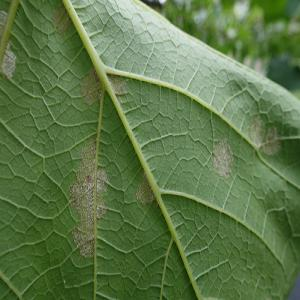Folha: (1, 0, 299, 299)
Fungo: (68, 136, 109, 258), (248, 115, 281, 157), (0, 9, 16, 79), (106, 67, 134, 102), (212, 137, 234, 179), (79, 66, 102, 106), (50, 2, 72, 37), (135, 170, 155, 206), (261, 124, 281, 156), (248, 115, 264, 149)
